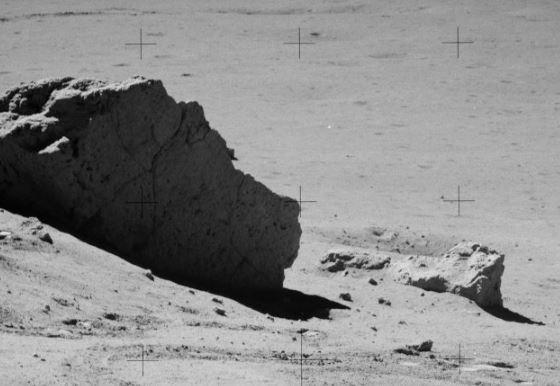rock: (0, 78, 301, 290), (395, 242, 504, 309), (320, 250, 390, 272)
